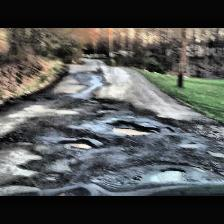pothole: (106, 119, 156, 135), (145, 167, 185, 183), (60, 139, 94, 150), (46, 187, 92, 195), (180, 141, 200, 147)
